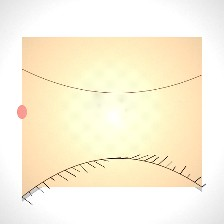pinguecula_lesion: (152, 104, 186, 131)
